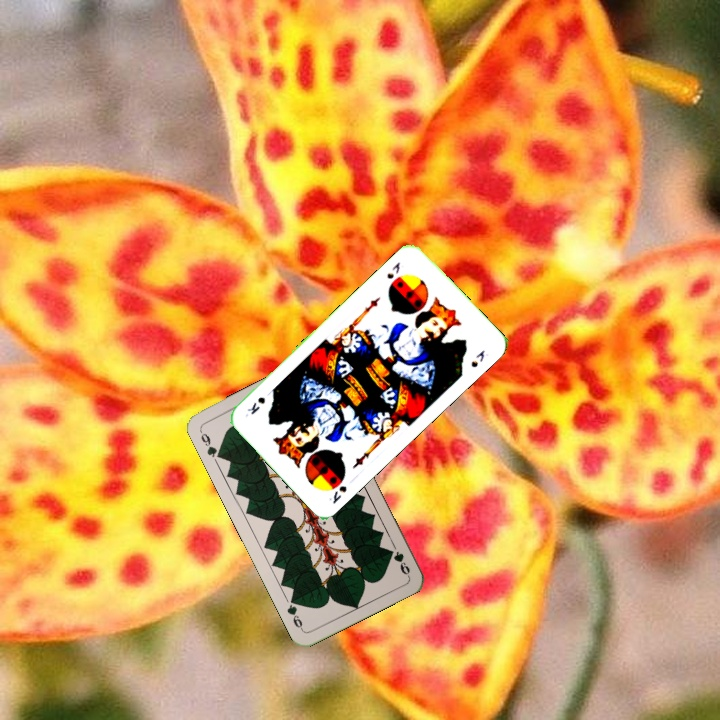G9: (196, 427, 225, 461), (389, 547, 412, 579)
SK: (324, 482, 349, 507), (383, 257, 403, 282)
